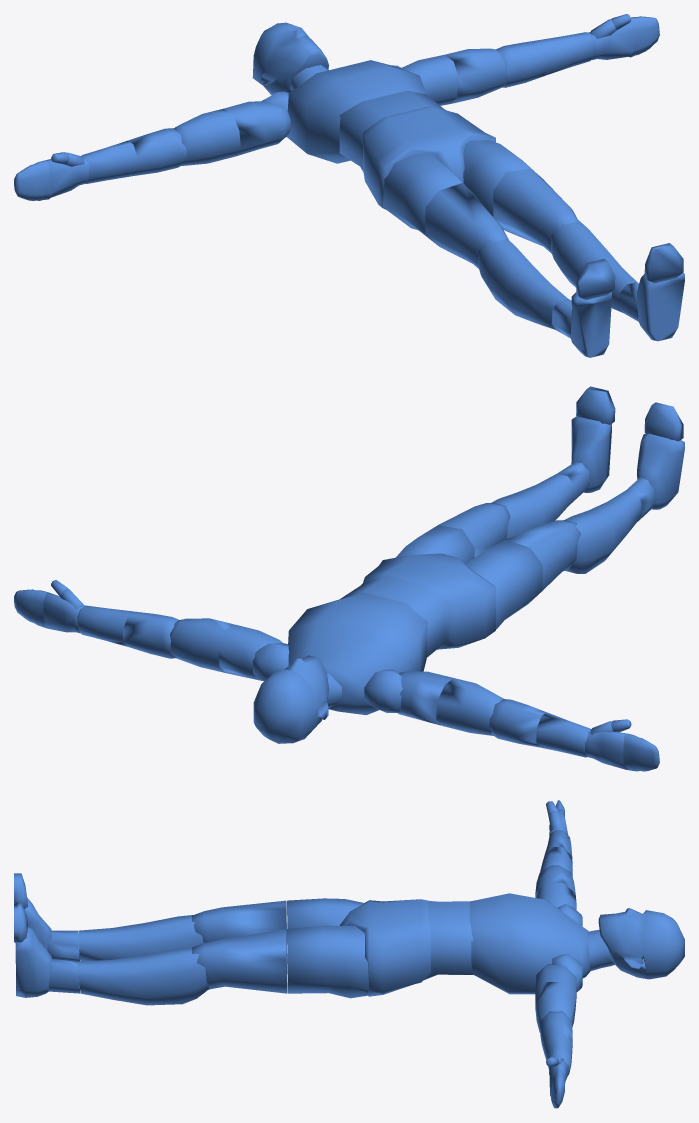
File: avatar.dae
The picture shows the model from 3 angles, top to bottom: view 1: azimuth 30°, elevation 25°; view 2: azimuth 150°, elevation 25°; view 3: azimuth 270°, elevation 25°; orthographic projection. The views are drawn at different scales.
Parts seen in each view (by area): view 1: nodeChest, nodeHips, nodeRightKnee, nodeLeftUpLegRoll, nodeRightUpLegRoll, nodeRightHip, nodeHead, nodeLeftKnee, nodeWaist, nodeRightArmRoll, nodeLeftHip, nodeLeftAnkle (+14 smaller); view 2: nodeChest, nodeHips, nodeHead, nodeRightHip, nodeRightKnee, nodeLeftKnee, nodeWaist, nodeRightArmRoll, nodeRightAnkle, nodeRightUpLegRoll, nodeLeftArmRoll, nodeRightWrist (+16 smaller); view 3: nodeChest, nodeHips, nodeLeftKnee, nodeLeftHip, nodeHead, nodeLeftUpLegRoll, nodeRightKnee, nodeWaist, nodeRightUpLegRoll, nodeLeftAnkle, nodeRightHip, nodeLeftArmRoll (+13 smaller).
Part boxes in pixels (x1,y1,x2,y2): nodeChest: (286, 60, 426, 163); nodeHips: (363, 106, 495, 209); nodeRightKnee: (478, 238, 567, 329); nodeLeftUpLegRoll: (493, 168, 577, 253); nodeRightUpLegRoll: (425, 183, 508, 268); nodeRightHip: (383, 153, 462, 245); nodeHead: (252, 22, 328, 94); nodeLeftKnee: (551, 217, 636, 312); nodeWaist: (339, 90, 446, 172); nodeRightArmRoll: (174, 108, 240, 165); nodeLeftHip: (463, 140, 537, 229); nodeLeftAnkle: (637, 273, 684, 341); nodeChest: (288, 592, 427, 715); nodeHips: (363, 553, 495, 649); nodeHead: (253, 655, 329, 743); nodeRightHip: (466, 539, 542, 629); nodeRightKnee: (565, 490, 641, 573); nodeLeftKnee: (491, 473, 574, 538); nodeWaist: (340, 575, 451, 657); nodeRightArmRoll: (436, 678, 503, 735); nodeRightAnkle: (637, 433, 684, 509); nodeRightUpLegRoll: (506, 520, 580, 601); nodeLeftArmRoll: (169, 618, 232, 673); nodeRightWrist: (584, 729, 659, 771); nodeChest: (469, 893, 590, 994); nodeHips: (339, 899, 431, 996); nodeLeftKnee: (78, 947, 208, 1005); nodeLeftHip: (287, 925, 369, 998); nodeHead: (598, 908, 684, 979); nodeLeftUpLegRoll: (192, 929, 287, 993); nodeRightKnee: (78, 915, 203, 961); nodeWaist: (423, 900, 473, 980); nodeRightUpLegRoll: (192, 900, 287, 963); nodeLeftAnkle: (15, 927, 52, 997); nodeRightHip: (287, 898, 364, 928); nodeLeftArmRoll: (535, 982, 575, 1032).
Size of the model in its own units: 1.81 by 1.77 by 0.2714.
